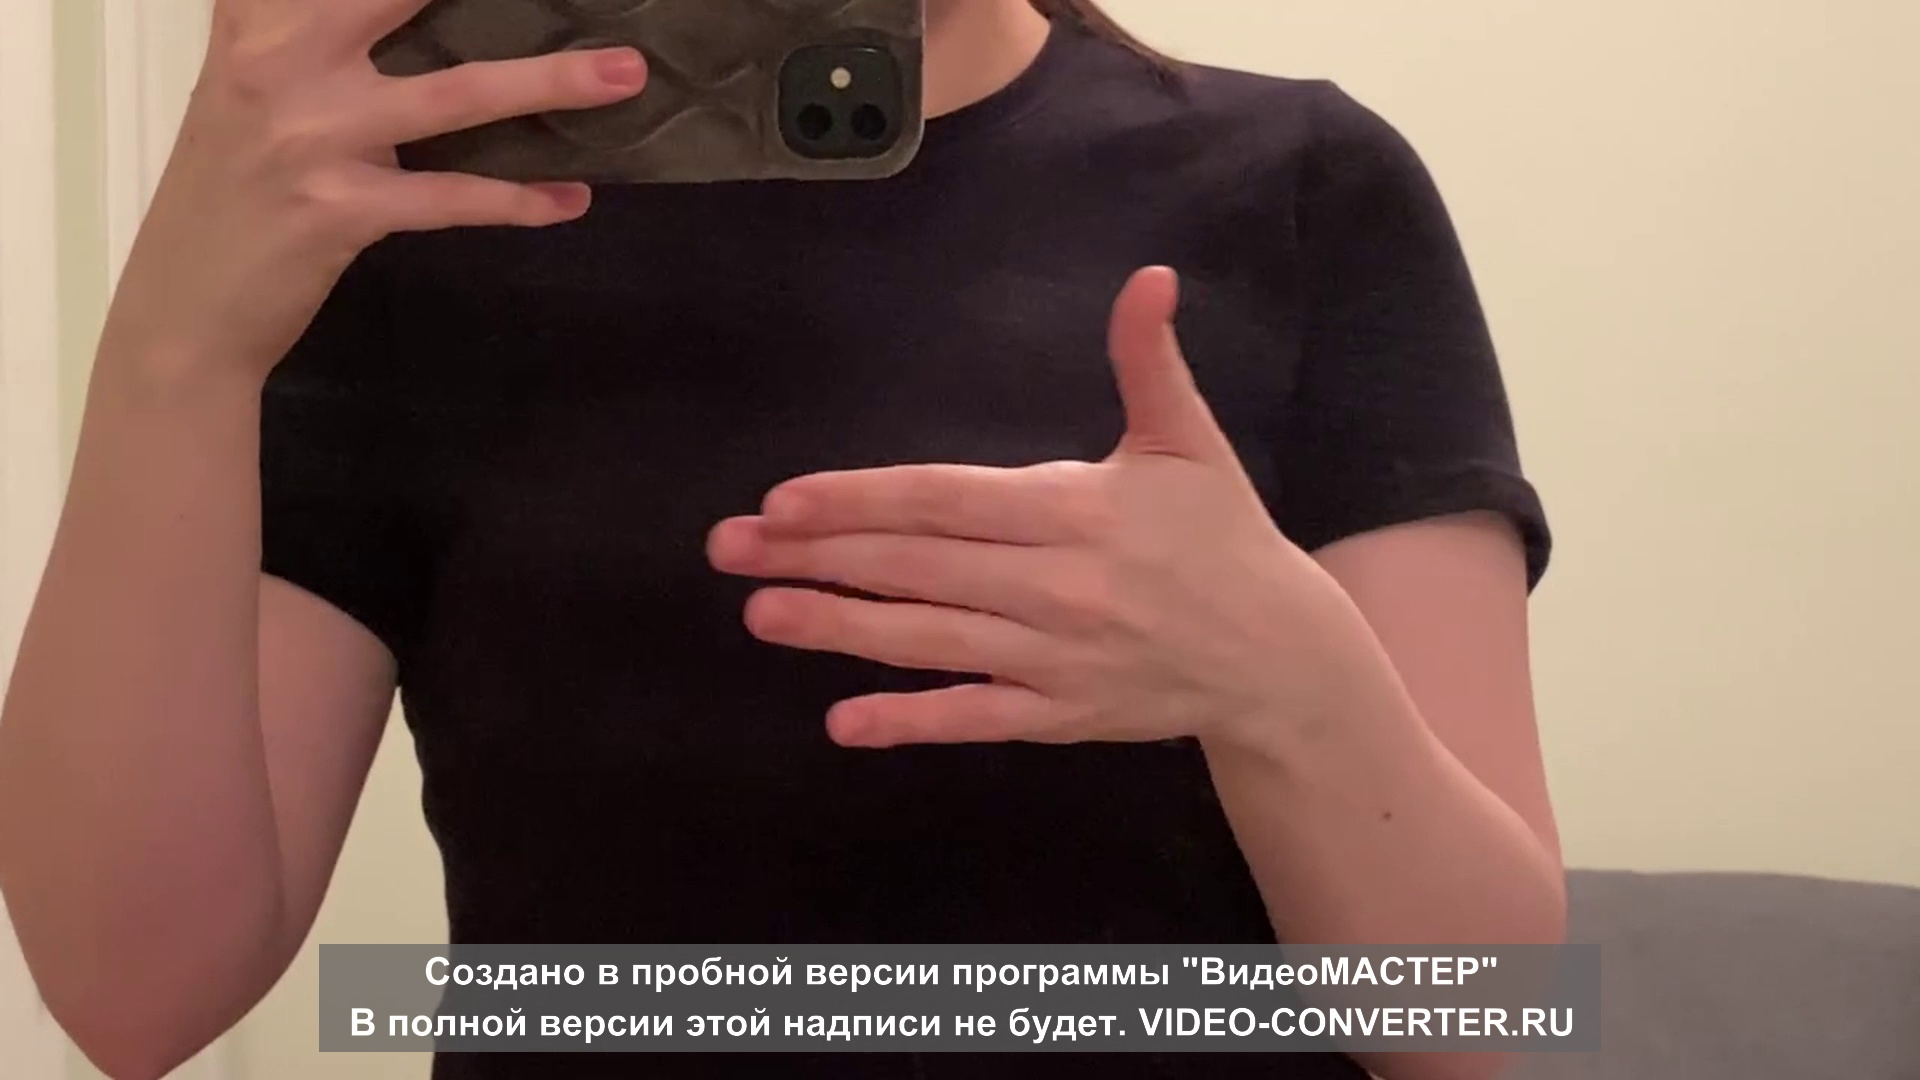Кисть: (702, 258, 1265, 749)
